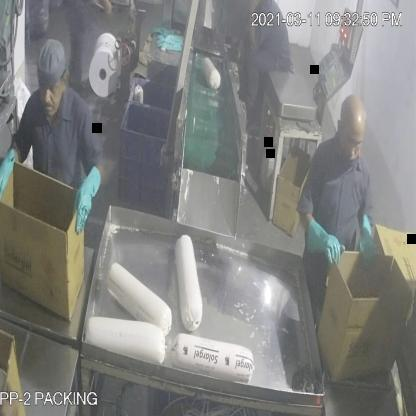glove: (65, 153, 103, 233), (302, 199, 342, 263), (356, 202, 378, 268), (0, 145, 18, 206)
